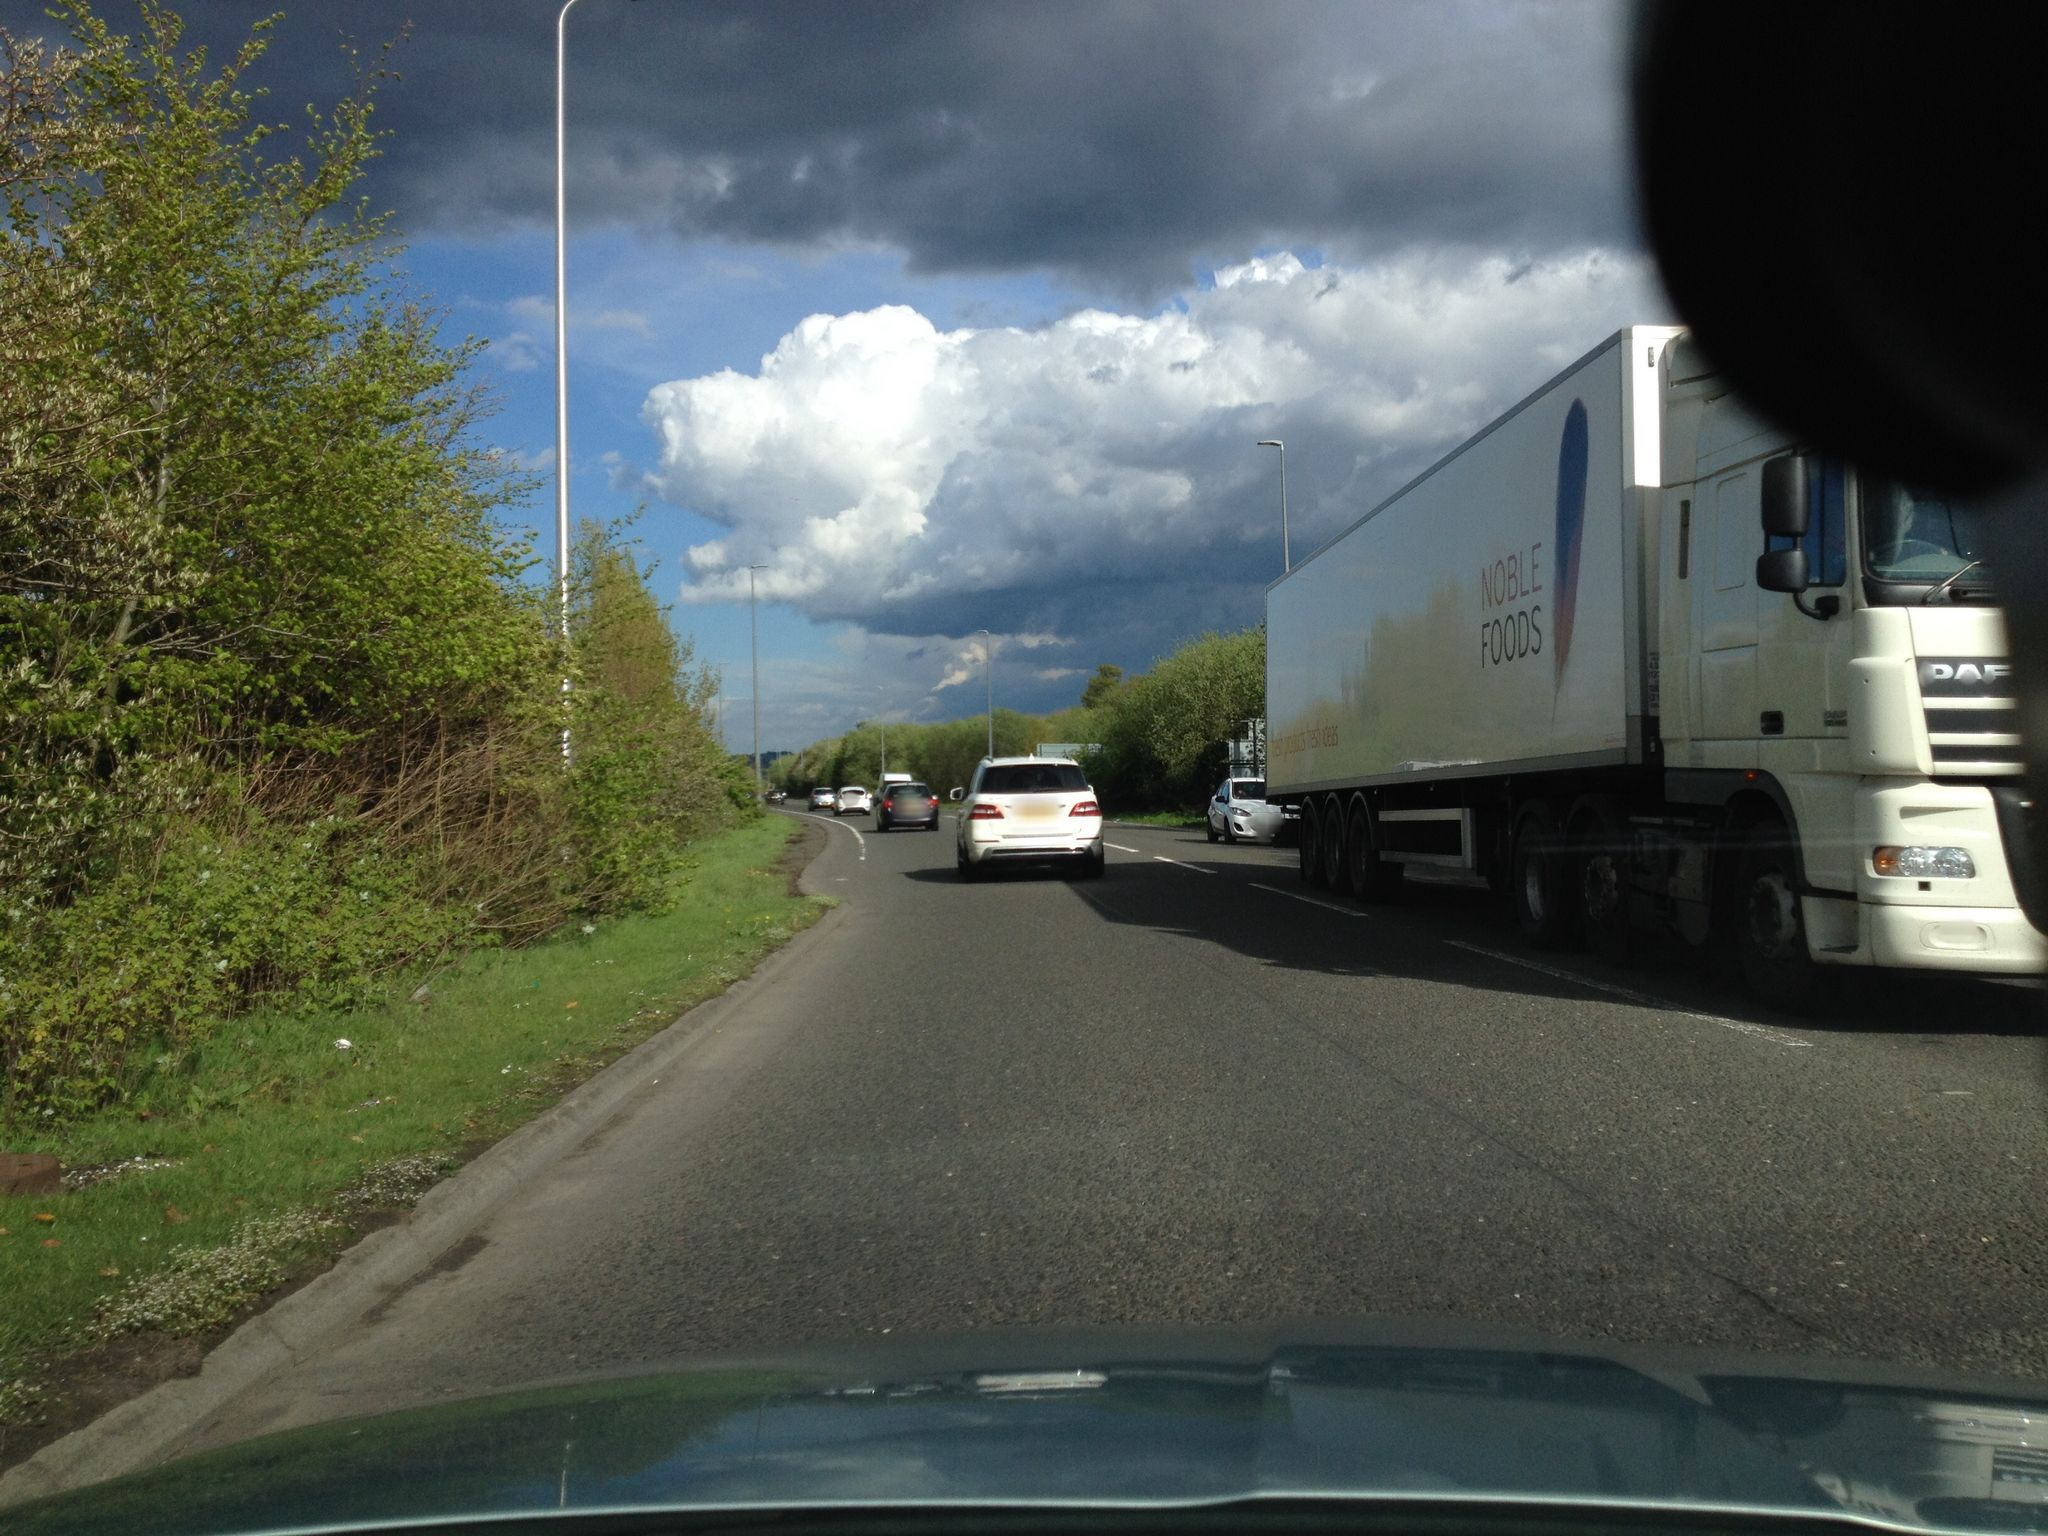car: (948, 753, 1106, 878), (1205, 776, 1300, 845), (872, 783, 940, 831), (832, 786, 872, 815), (806, 786, 835, 812)
truck: (1263, 316, 2046, 1007)
